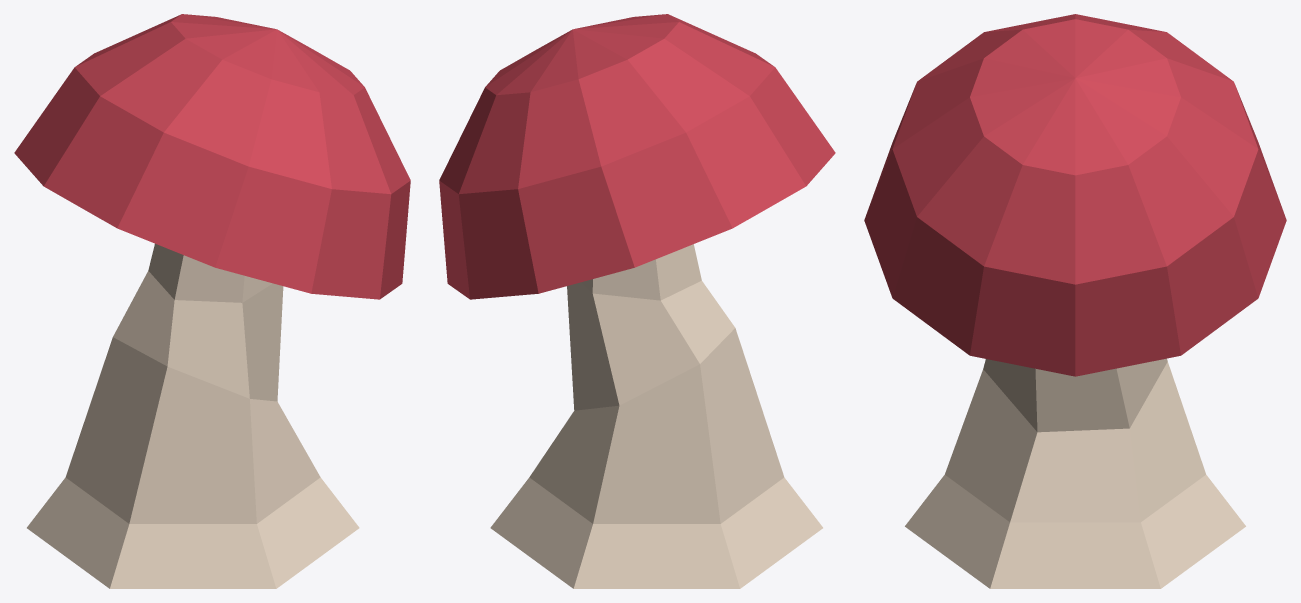
File: fiore2.glb
The picture shows the model from 3 angles, left to right: view 1: azimuth 30°, elevation 25°; view 2: azimuth 150°, elevation 25°; view 3: azimuth 270°, elevation 25°; orthographic projection. The views are drawn at different scales.
Parts seen in each view (by area): view 1: Cylinder; view 2: Cylinder; view 3: Cylinder.
Part boxes in pixels (x1,y1,x2,y2): Cylinder: [14, 14, 410, 588]; Cylinder: [439, 14, 835, 588]; Cylinder: [864, 14, 1286, 588].
Size of the model in its own units: 0.3715 by 0.5103 by 0.3881.
